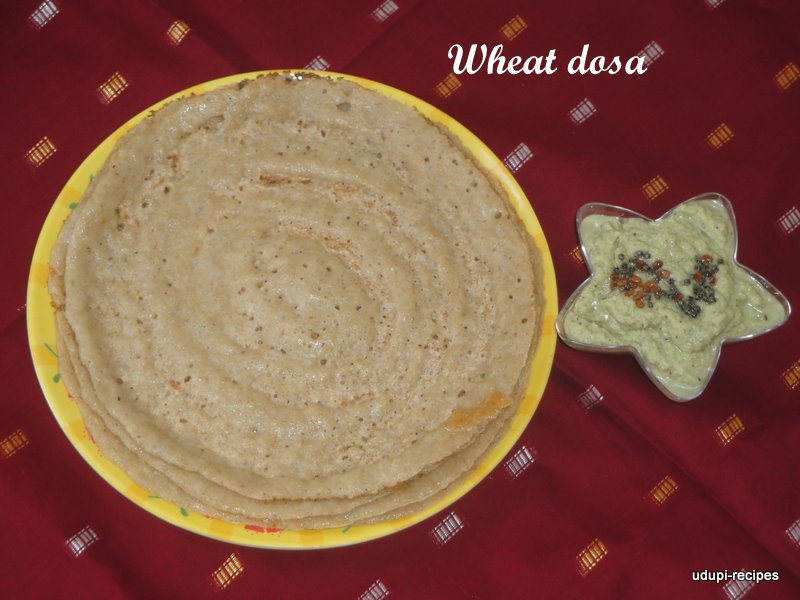dosa: (54, 69, 552, 522)
